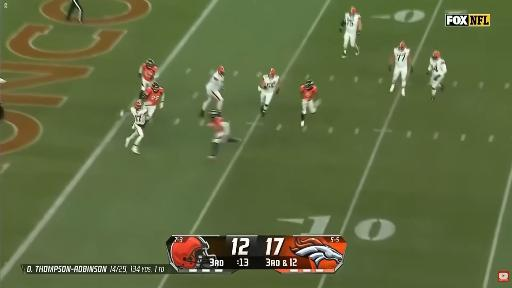Helmet: (209, 110, 221, 118), (146, 58, 155, 68), (305, 80, 314, 89), (432, 50, 440, 60), (134, 101, 142, 110), (399, 41, 406, 50), (152, 82, 159, 91), (218, 66, 224, 75), (269, 69, 275, 78), (351, 6, 356, 14)
Jersey: (393, 48, 410, 68), (145, 87, 163, 105), (140, 63, 157, 81), (207, 72, 224, 90), (131, 107, 147, 126), (345, 13, 360, 33), (428, 58, 446, 74), (212, 118, 229, 134), (263, 75, 279, 92), (300, 85, 317, 101)
Player: (206, 110, 241, 159), (389, 42, 412, 96), (200, 66, 224, 117), (125, 102, 147, 154), (340, 6, 361, 58), (259, 69, 280, 116), (427, 51, 446, 100), (300, 80, 317, 126), (144, 82, 164, 118), (139, 59, 157, 98)
